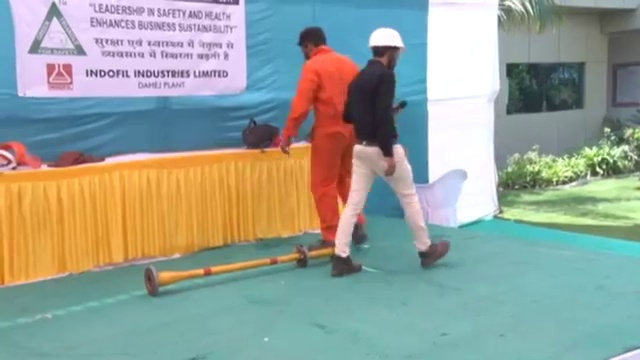helmet: (367, 26, 406, 53)
helmet_off: (297, 26, 330, 60)
helmet_on: (367, 25, 409, 69)
person: (328, 27, 450, 276), (286, 26, 368, 243)
